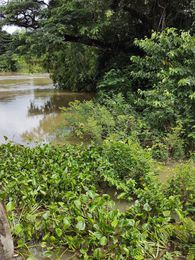water_hyacinth: (17, 192, 145, 259)
